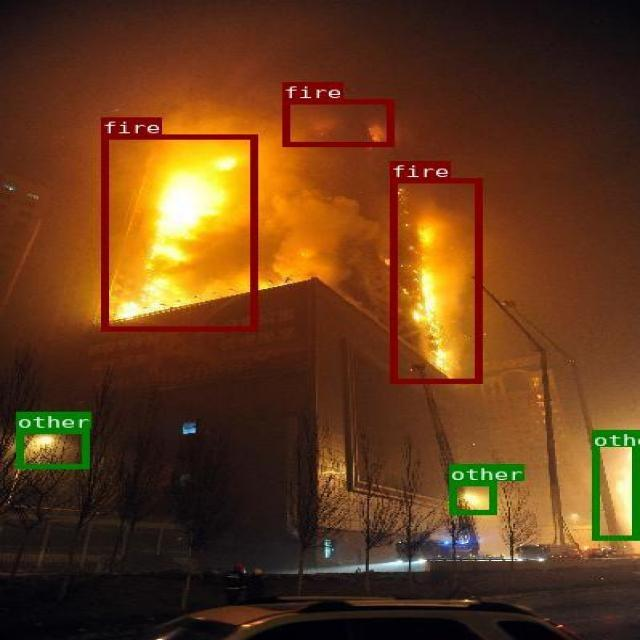fire: (100, 134, 256, 330), (389, 178, 481, 382), (282, 99, 392, 145)
